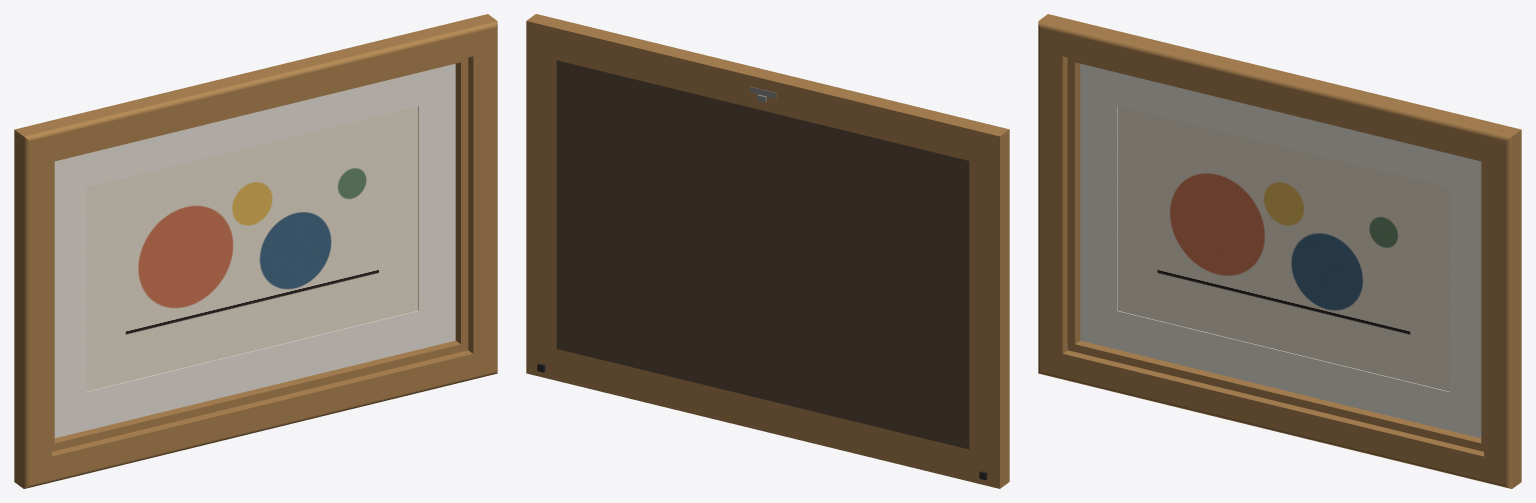
File: picture_frame_b.glb
3 views of the same model, side by side, from view 1: azimuth 30°, elevation 25°; view 2: azimuth 150°, elevation 25°; view 3: azimuth 330°, elevation 25° (orthographic).
Parts seen in each view (by area): view 1: picture_frame_b_print, picture_frame.008, picture_frame.010; view 2: picture_frame.006, picture_frame.008; view 3: picture_frame_b_print, picture_frame.008, picture_frame.010.
Part boxes in pixels (bbox=[...]): picture_frame_b_print: bbox=[86, 106, 418, 391]; picture_frame.008: bbox=[14, 14, 497, 488]; picture_frame.010: bbox=[54, 63, 455, 438]; picture_frame.006: bbox=[556, 60, 969, 449]; picture_frame.008: bbox=[526, 14, 1009, 488]; picture_frame_b_print: bbox=[1117, 106, 1449, 391]; picture_frame.008: bbox=[1038, 14, 1521, 488]; picture_frame.010: bbox=[1080, 63, 1481, 438].
Size of the model in its own units: 0.9 by 0.64 by 0.043.
Materials: 6 (1 with a texture image).
